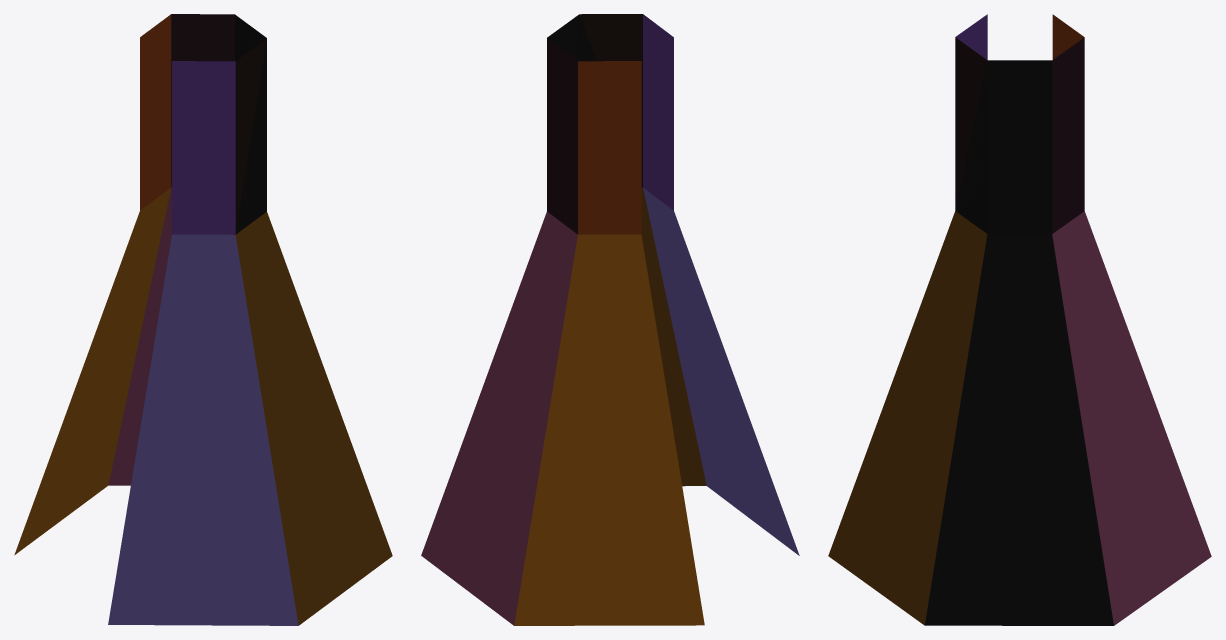
The model's file is beaker.glb.
3 renders of one model, left to right at view 1: azimuth 30°, elevation 25°; view 2: azimuth 150°, elevation 25°; view 3: azimuth 270°, elevation 25°, orthographic.
Visible parts, largest first — view 1: Object; view 2: Object; view 3: Object.
Part boxes in pixels (x1=…): Object: x1=14, y1=14, x2=392, y2=625; Object: x1=421, y1=14, x2=799, y2=625; Object: x1=828, y1=14, x2=1211, y2=625.
Size of the model in its own units: 0.2992 by 0.5203 by 0.3483.
Materials: 12 (12 with a texture image).
